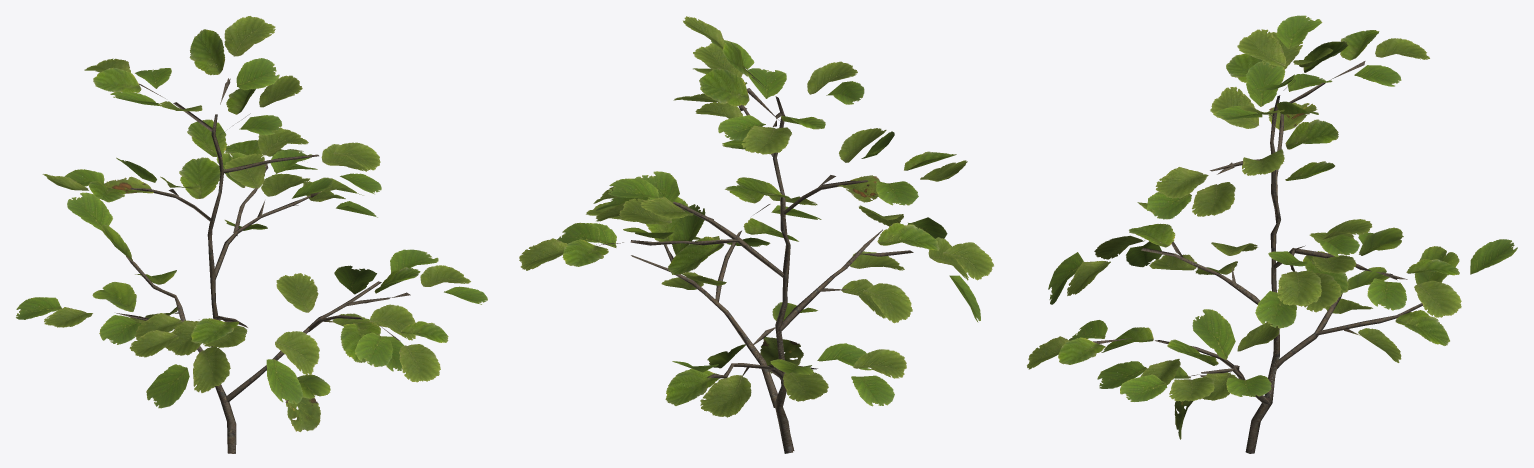
The model's file is SM_BlackAlder_Seedling_02.gltf.
3 views of the same model, side by side, from view 1: azimuth 30°, elevation 25°; view 2: azimuth 150°, elevation 25°; view 3: azimuth 270°, elevation 25° (orthographic). The views are drawn at different scales.
Visible parts, largest first — view 1: SM_BlackAlder_Seedling_02; view 2: SM_BlackAlder_Seedling_02; view 3: SM_BlackAlder_Seedling_02.
Part boxes in pixels (bbox=[...]): SM_BlackAlder_Seedling_02: bbox=[16, 16, 487, 453]; SM_BlackAlder_Seedling_02: bbox=[519, 16, 993, 453]; SM_BlackAlder_Seedling_02: bbox=[1027, 15, 1517, 453].
Size of the model in its own units: 0.8585 by 0.8615 by 0.8982.
1 material, 1 textured.
